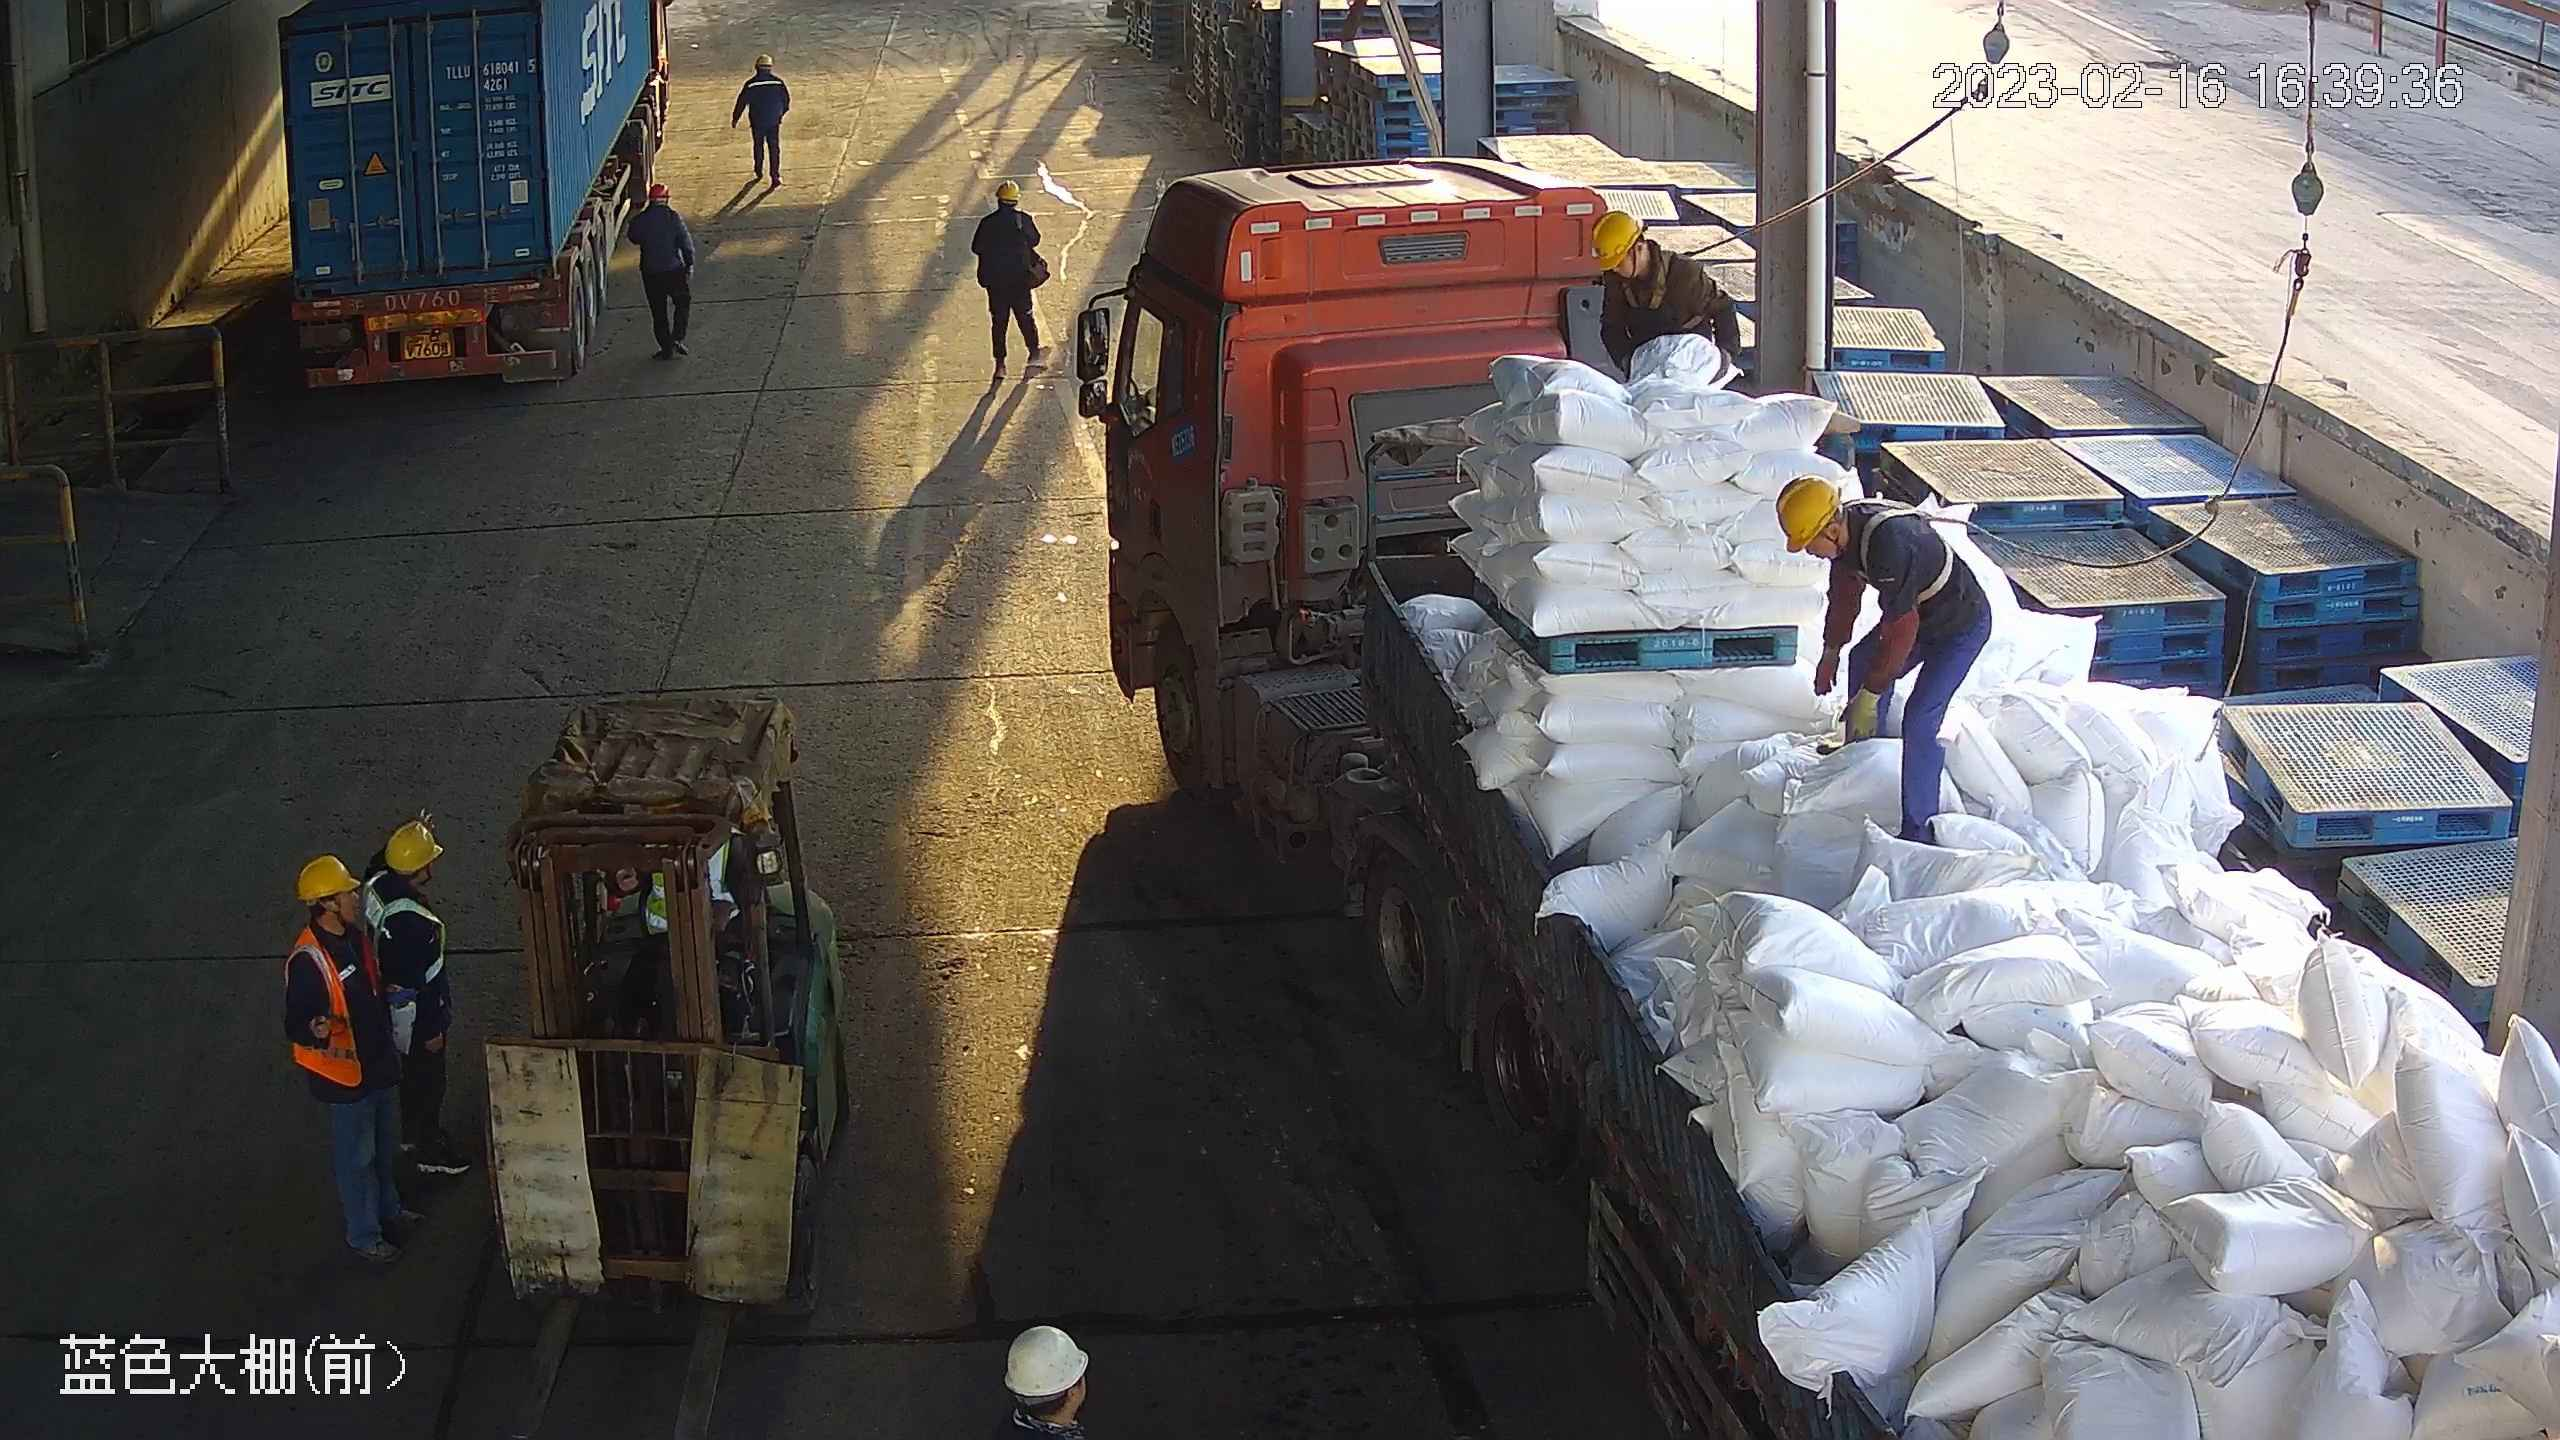belt: (1834, 500, 1969, 609), (1618, 245, 1700, 314)
head: (1775, 473, 1944, 563), (281, 852, 381, 972), (1590, 210, 1714, 289), (365, 815, 445, 932), (977, 178, 1037, 231), (629, 182, 686, 229), (735, 52, 789, 90)
helmet: (1002, 1322, 1091, 1396), (1774, 472, 1843, 555), (383, 819, 446, 873), (1591, 210, 1643, 271), (297, 854, 361, 903), (993, 179, 1022, 202), (646, 183, 670, 200), (753, 53, 773, 67)
people: (1778, 471, 1995, 848), (280, 852, 424, 1266), (362, 814, 473, 1177), (1591, 211, 1744, 382), (969, 179, 1056, 383), (626, 182, 697, 361), (728, 53, 794, 188)
truck: (1102, 154, 2560, 1440), (267, 1, 679, 391)
